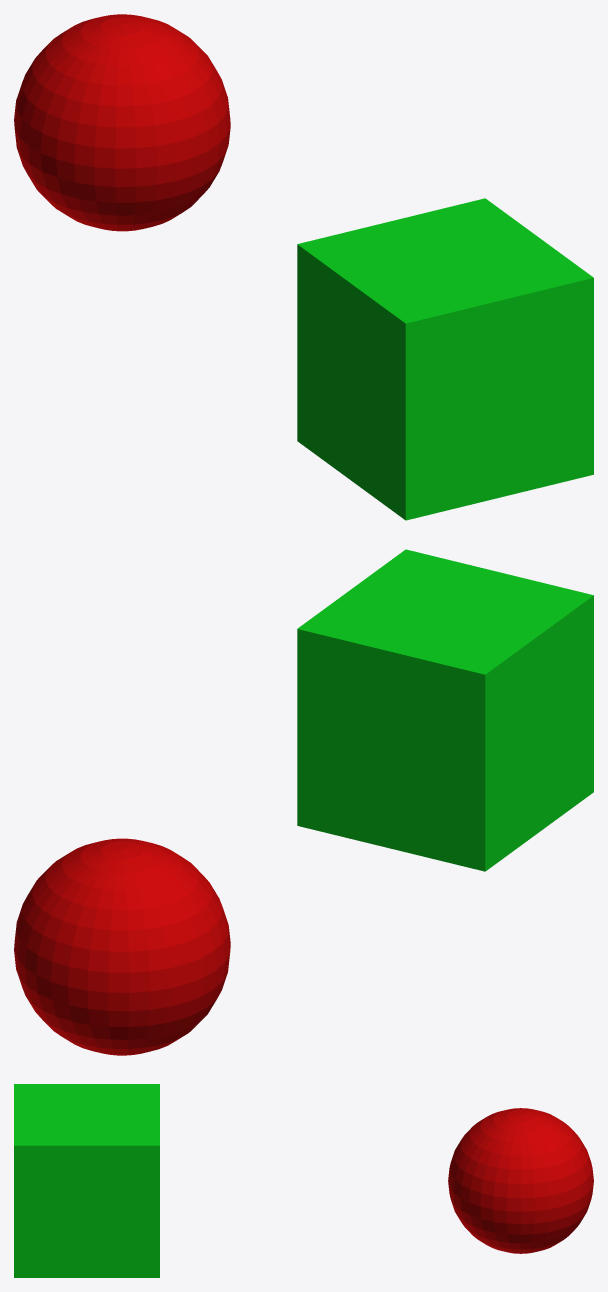
The model's file is testmaterial.obj.
The picture shows the model from 3 angles, top to bottom: view 1: azimuth 30°, elevation 25°; view 2: azimuth 150°, elevation 25°; view 3: azimuth 270°, elevation 25°; orthographic projection. The views are drawn at different scales.
Visible parts, largest first — view 1: Cube, Sphere; view 2: Cube, Sphere; view 3: Cube, Sphere.
Boxes of the visible parts, <box> form: Cube: <box>297,198,593,520</box>; Sphere: <box>14,14,230,231</box>; Cube: <box>297,549,593,871</box>; Sphere: <box>14,838,230,1055</box>; Cube: <box>14,1084,159,1277</box>; Sphere: <box>448,1108,593,1253</box>.
Bounding box in the file's own units: 2 × 2 × 7.95.
